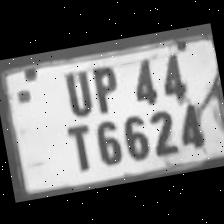2: (143, 102, 179, 158)
4: (150, 44, 191, 102), (170, 94, 210, 152), (119, 51, 160, 106)
6: (115, 108, 152, 163), (86, 115, 124, 168)
P: (84, 58, 124, 114)
T: (56, 116, 98, 173)
U: (54, 63, 94, 117)
